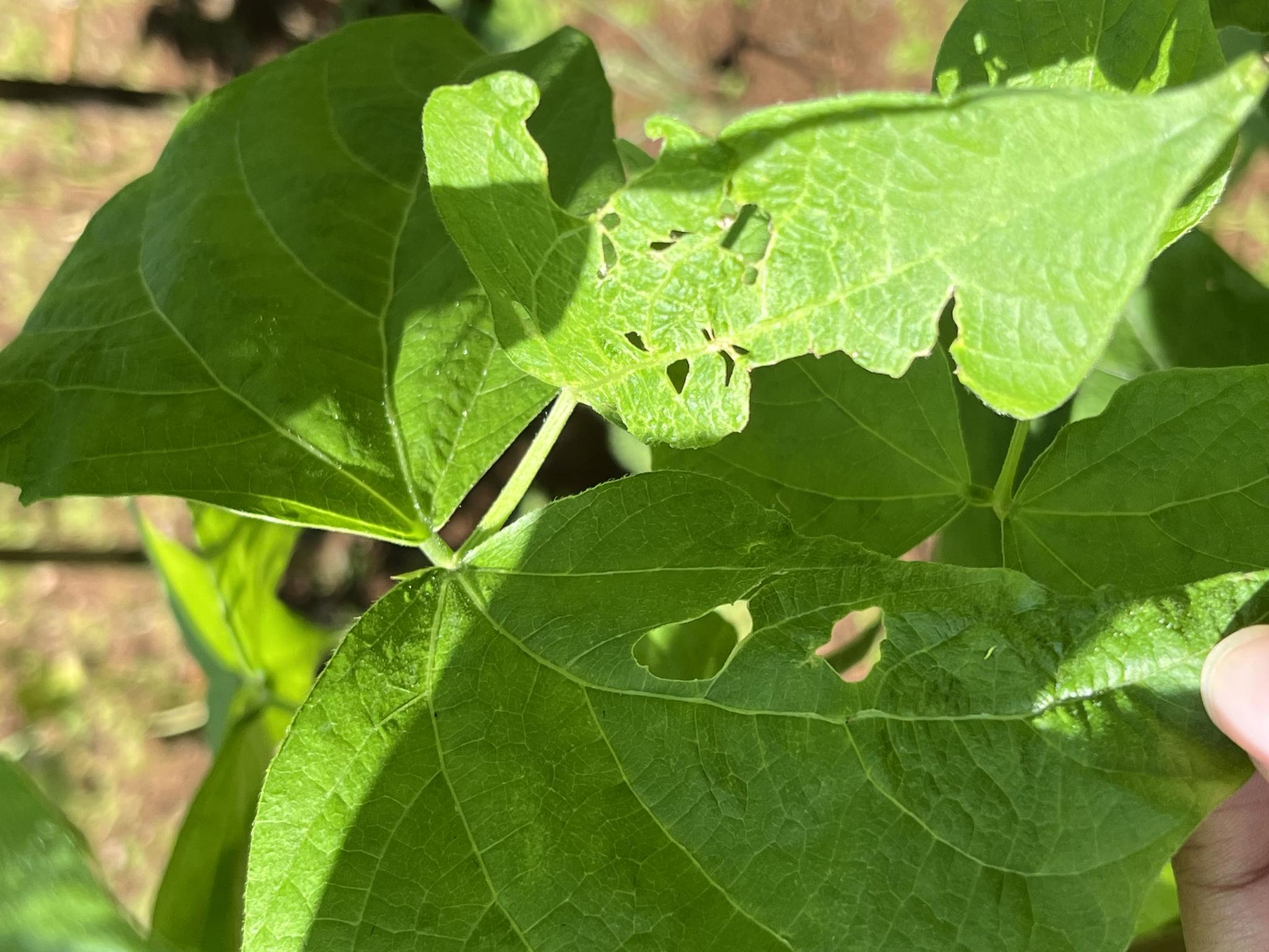mozaik: (634, 596, 762, 684), (799, 604, 904, 682), (661, 621, 753, 684), (663, 350, 695, 395), (623, 320, 653, 346)
